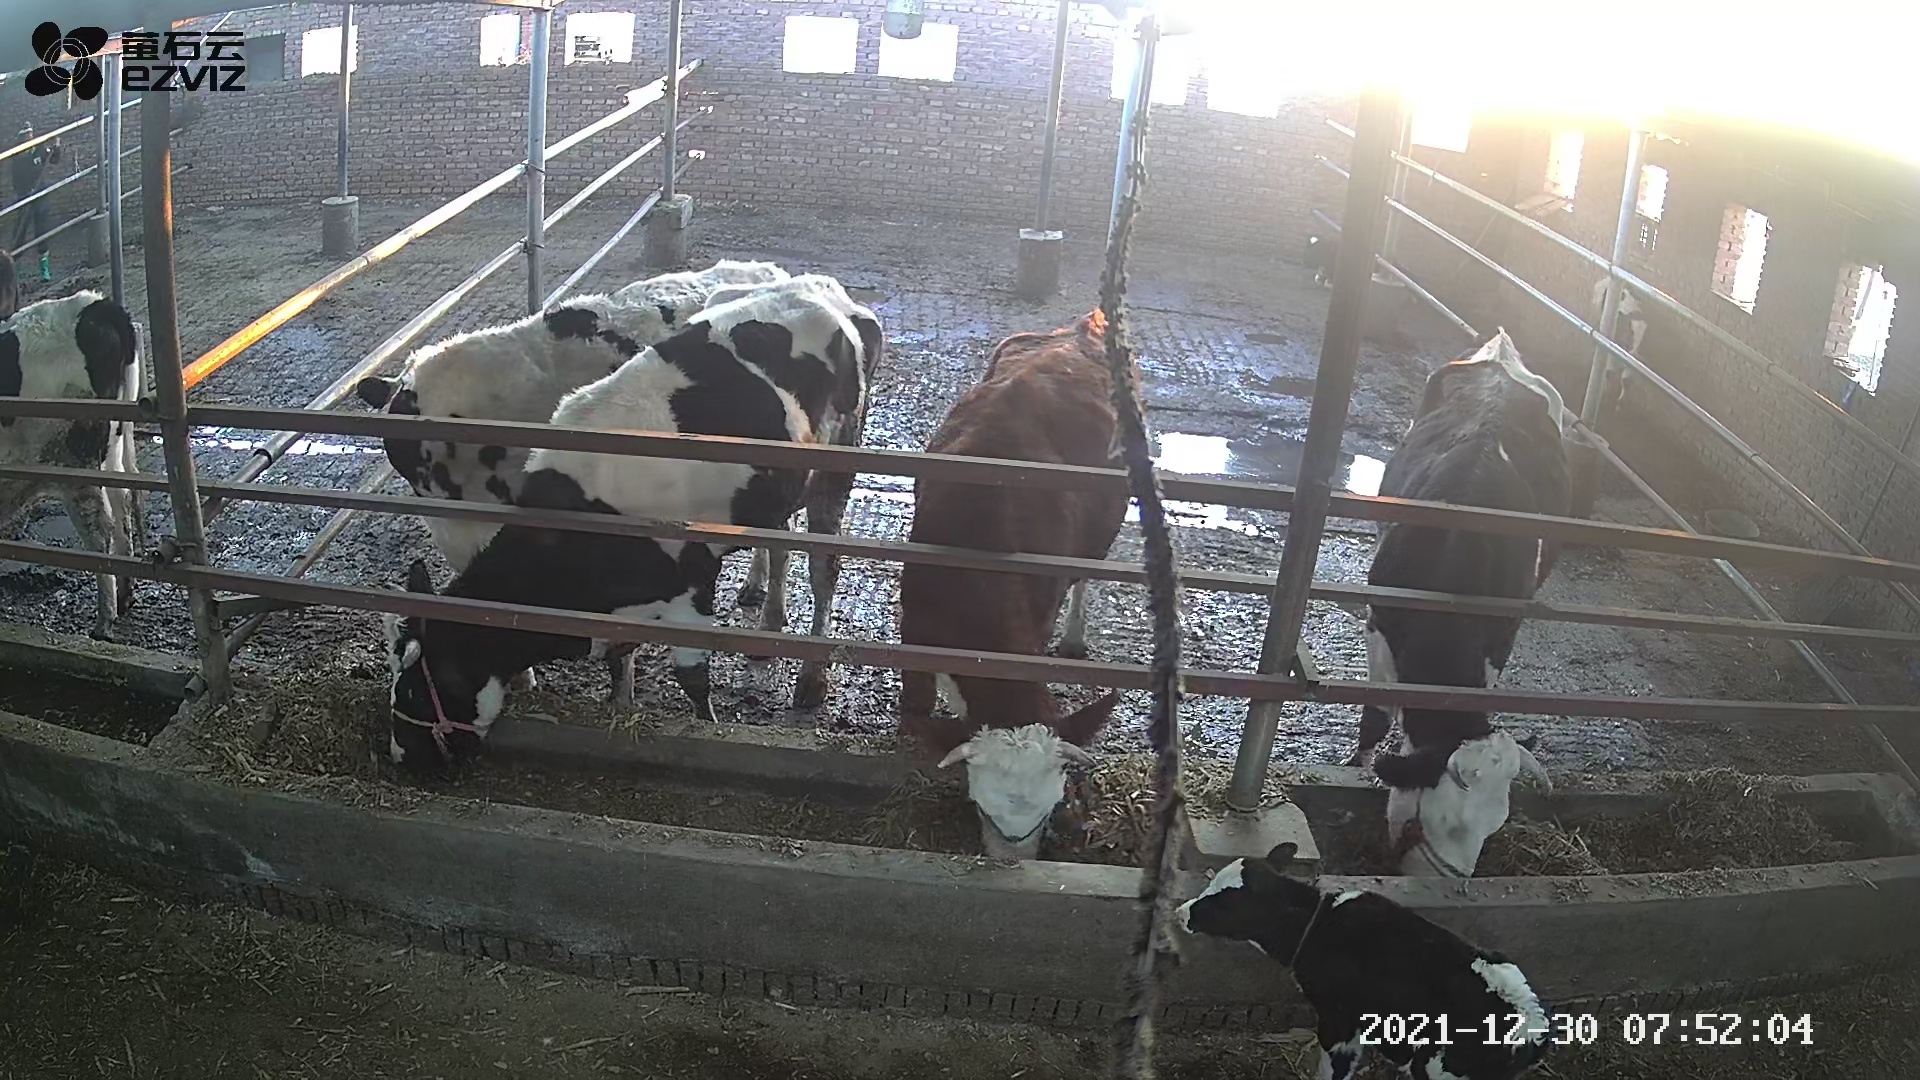cow: (386, 272, 886, 773), (359, 257, 796, 608), (898, 309, 1145, 861), (1336, 320, 1576, 878)
